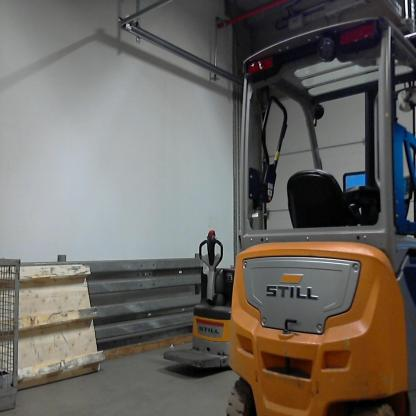forklift: (225, 9, 413, 414)
pallet_truck: (170, 225, 245, 382)
stillage: (0, 250, 25, 408)
